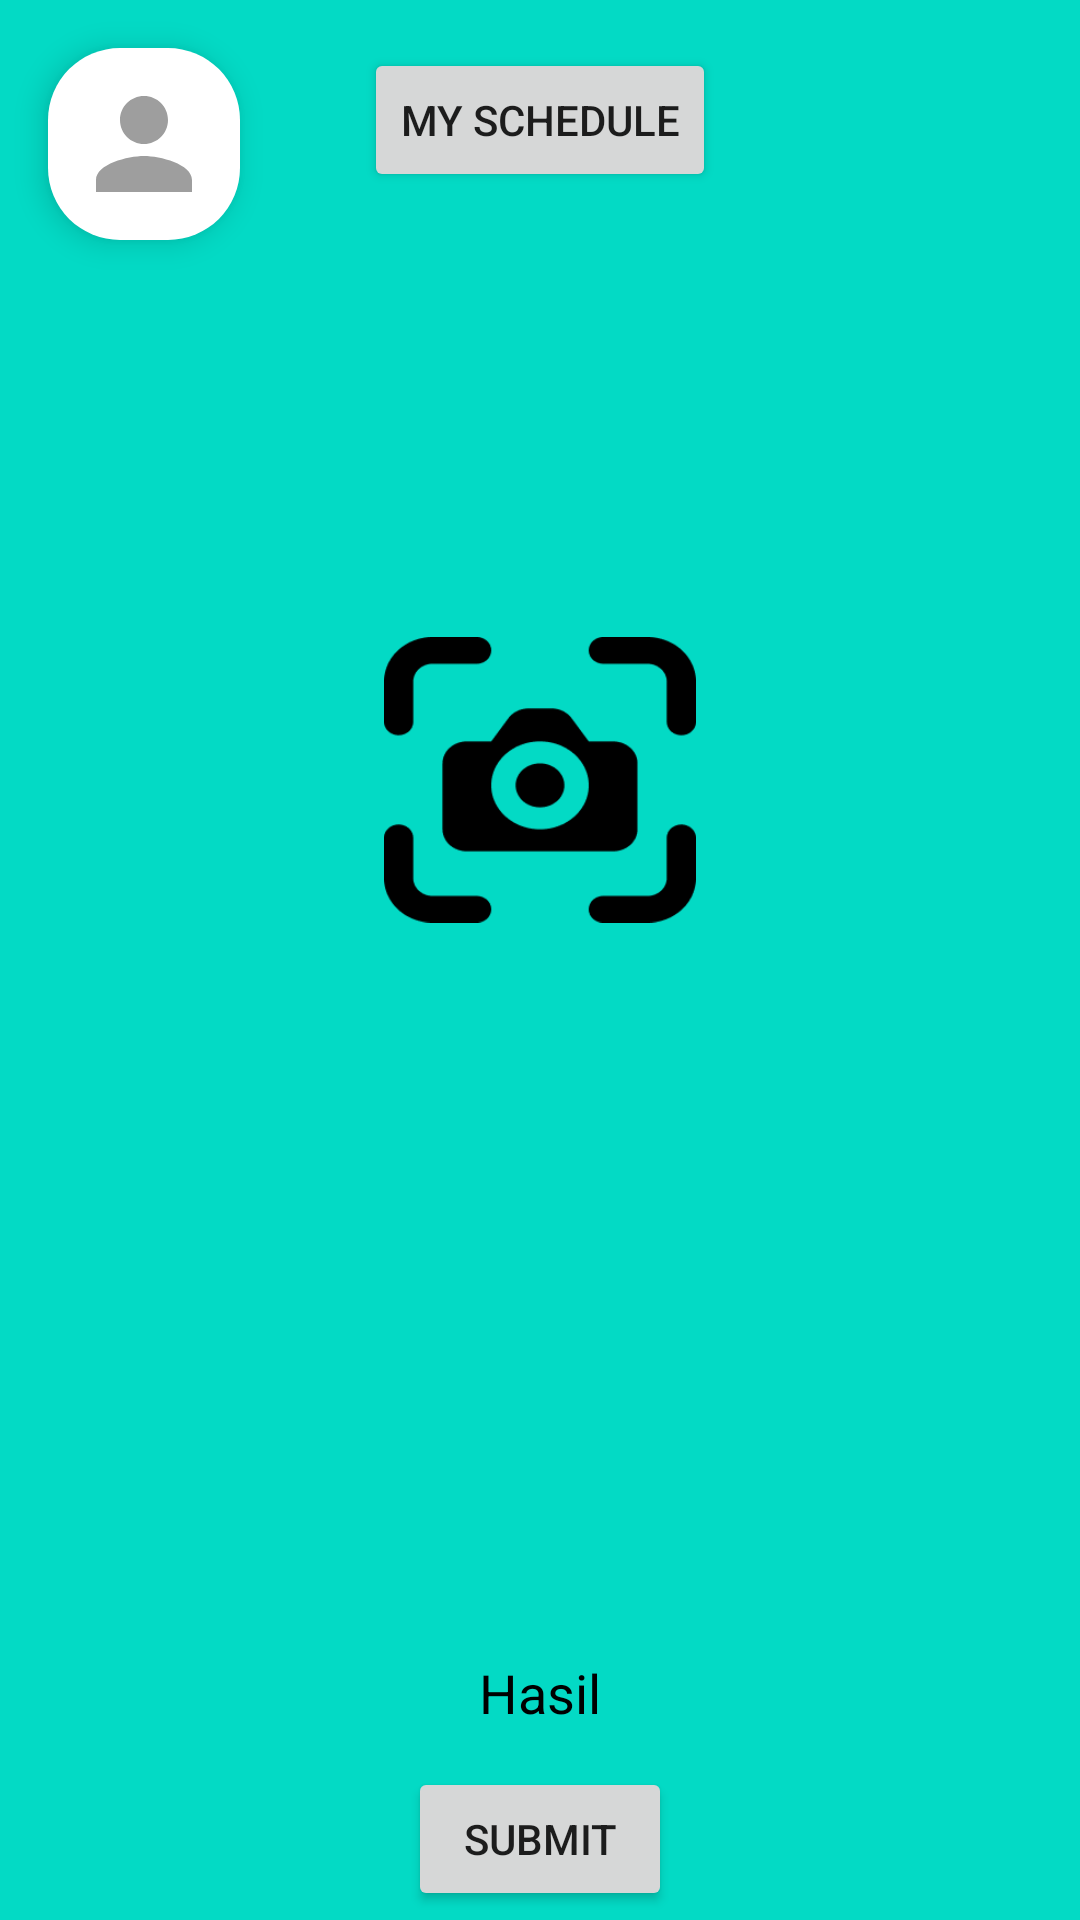

Screen size 1080x1920. Icon name, then its center in pixels as point (x, y):
Select image: point (540, 780)
